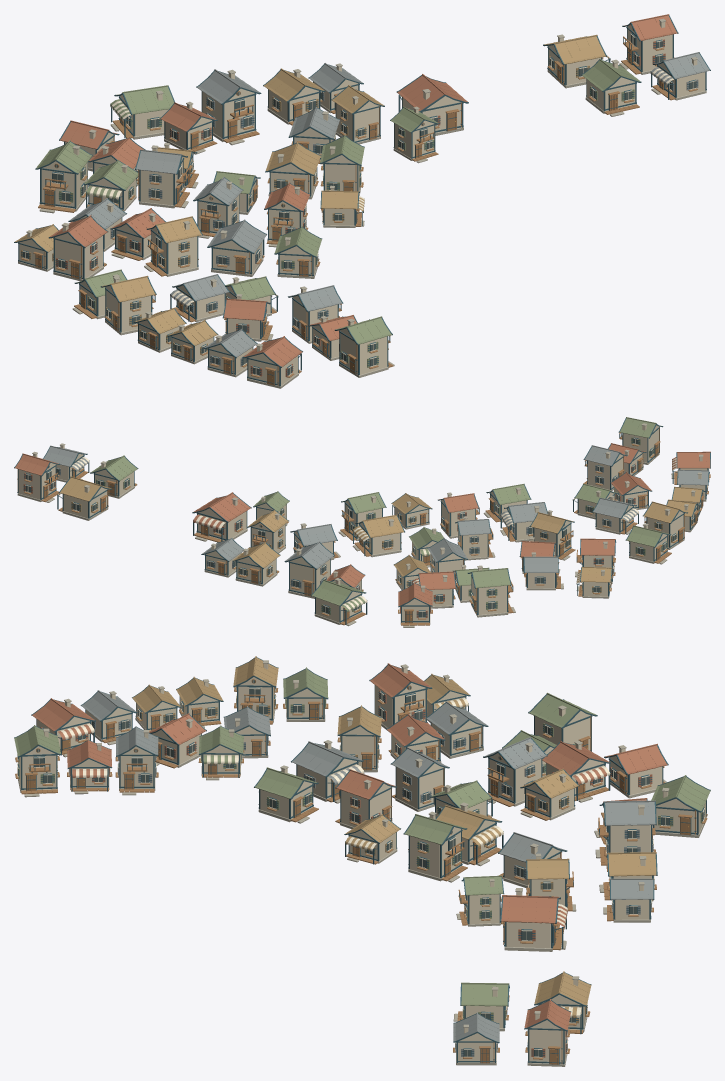
The model's file is 05_Residential.glb.
3 renders of one model, top to bottom at view 1: azimuth 30°, elevation 25°; view 2: azimuth 150°, elevation 25°; view 3: azimuth 270°, elevation 25°, orthographic. The views are drawn at different scales.
Visible parts, largest first — view 1: AC_Home_Balcony_002, AC_Home_Balcony_017, AC_Home_Balcony_020, AC_Home_Balcony_014, AC_Home_Balcony_029, AC_Home_Balcony_011, AC_Home_Veranda_001, AC_Home_Veranda_010, AC_Home_Veranda_004, AC_Home_Balcony_032, AC_Home_Cottage_033, AC_Home_Balcony_023 (+32 smaller); view 2: AC_Home_Veranda_004, AC_Home_Balcony_017, AC_Home_Veranda_001, AC_Home_Balcony_002, AC_Home_Balcony_032, AC_Home_Veranda_007, AC_Home_Veranda_031, AC_Home_Cottage_003, AC_Home_Balcony_026, AC_Home_Balcony_011, AC_Home_Cottage_021, AC_Home_Cottage_000 (+32 smaller); view 3: AC_Home_Veranda_004, AC_Home_Balcony_005, AC_Home_Balcony_002, AC_Home_Balcony_014, AC_Home_Veranda_001, AC_Home_Balcony_029, AC_Home_Balcony_020, AC_Home_Balcony_032, AC_Home_Cottage_009, AC_Home_Balcony_026, AC_Home_Balcony_038, AC_Home_Veranda_010 (+30 smaller).
Boxes of the visible parts, <box> form: AC_Home_Balcony_002: <box>196,69,261,145</box>; AC_Home_Balcony_017: <box>35,140,92,213</box>; AC_Home_Balcony_020: <box>48,215,108,281</box>; AC_Home_Balcony_014: <box>135,145,189,208</box>; AC_Home_Balcony_029: <box>334,316,394,377</box>; AC_Home_Balcony_011: <box>144,216,202,276</box>; AC_Home_Veranda_001: <box>110,85,174,139</box>; AC_Home_Veranda_010: <box>207,219,266,276</box>; AC_Home_Veranda_004: <box>396,74,468,135</box>; AC_Home_Balcony_032: <box>619,14,678,74</box>; AC_Home_Cottage_033: <box>581,58,641,116</box>; AC_Home_Balcony_023: <box>100,275,156,335</box>; AC_Home_Veranda_004: <box>192,492,251,542</box>; AC_Home_Balcony_017: <box>467,565,515,617</box>; AC_Home_Veranda_001: <box>311,578,367,626</box>; AC_Home_Balcony_002: <box>284,541,334,598</box>; AC_Home_Balcony_032: <box>14,451,60,502</box>; AC_Home_Veranda_007: <box>352,514,404,557</box>; AC_Home_Veranda_031: <box>57,476,112,520</box>; AC_Home_Cottage_003: <box>232,542,280,586</box>; AC_Home_Balcony_026: <box>583,445,627,491</box>; AC_Home_Balcony_011: <box>529,510,575,560</box>; AC_Home_Cottage_021: <box>625,523,671,564</box>; AC_Home_Cottage_000: <box>398,582,432,627</box>; AC_Home_Veranda_004: <box>500,888,567,951</box>; AC_Home_Balcony_005: <box>403,811,467,882</box>; AC_Home_Balcony_002: <box>595,800,656,865</box>; AC_Home_Balcony_014: <box>483,737,547,806</box>; AC_Home_Veranda_001: <box>651,775,710,837</box>; AC_Home_Balcony_029: <box>14,725,61,797</box>; AC_Home_Balcony_020: <box>369,663,432,732</box>; AC_Home_Balcony_032: <box>524,999,571,1066</box>; AC_Home_Cottage_009: <box>254,765,318,823</box>; AC_Home_Balcony_026: <box>115,726,158,795</box>; AC_Home_Balcony_038: <box>390,747,449,811</box>; AC_Home_Veranda_010: <box>291,740,364,803</box>.
Bounding box in the file's own units: 96.52 × 6.97 × 77.4.
